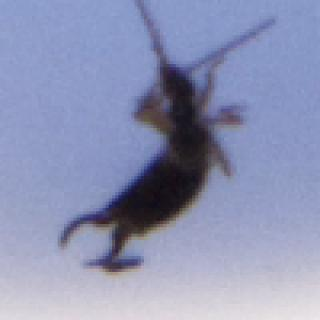earwig: (56, 0, 275, 275)
